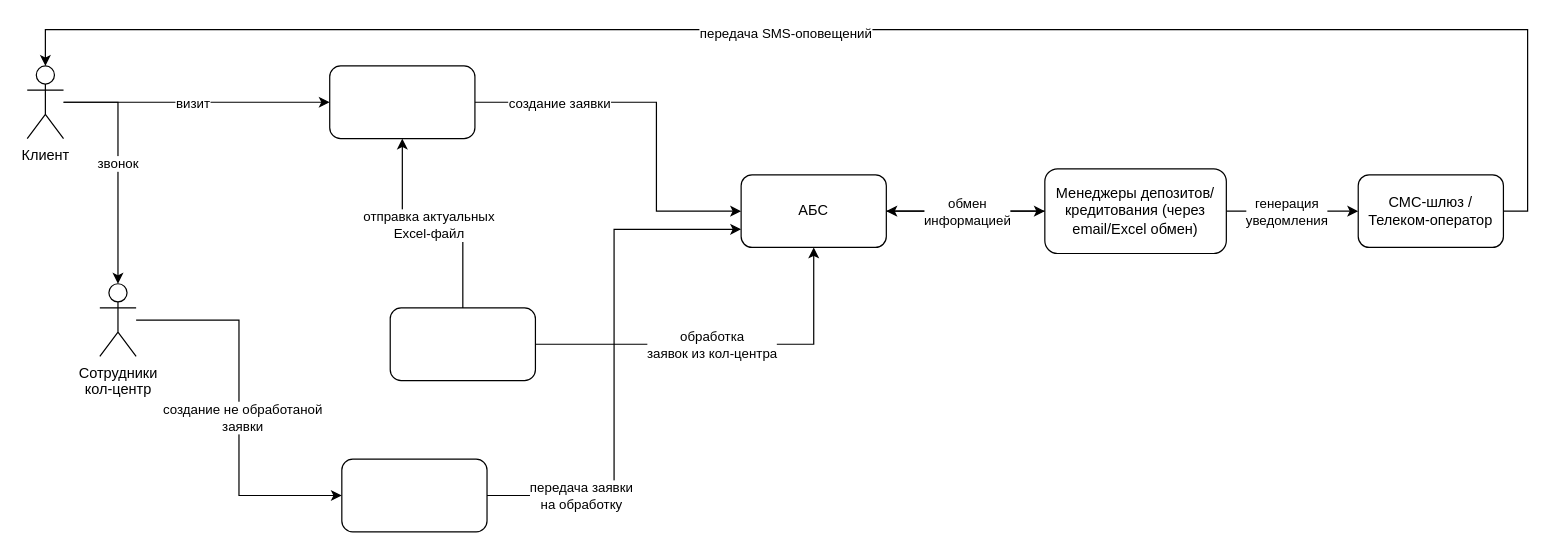
Some shapes in this 1558 by 553 pixel diagram are drawn without their labels. The box of each missing label's shape, as (x1, y1, x2, y2) in pixels:
Бэк офис: (389, 307, 535, 381)
Отдел кредитования / фронт офис: (329, 65, 475, 139)
Система кол-центра: (341, 458, 487, 532)
